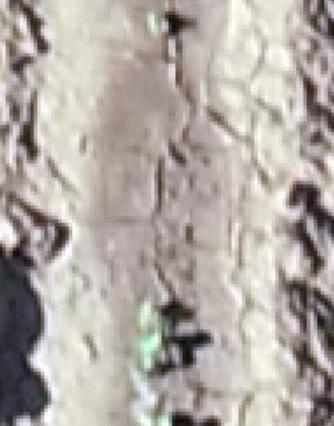cotton: (137, 331, 162, 355), (151, 14, 168, 33)
